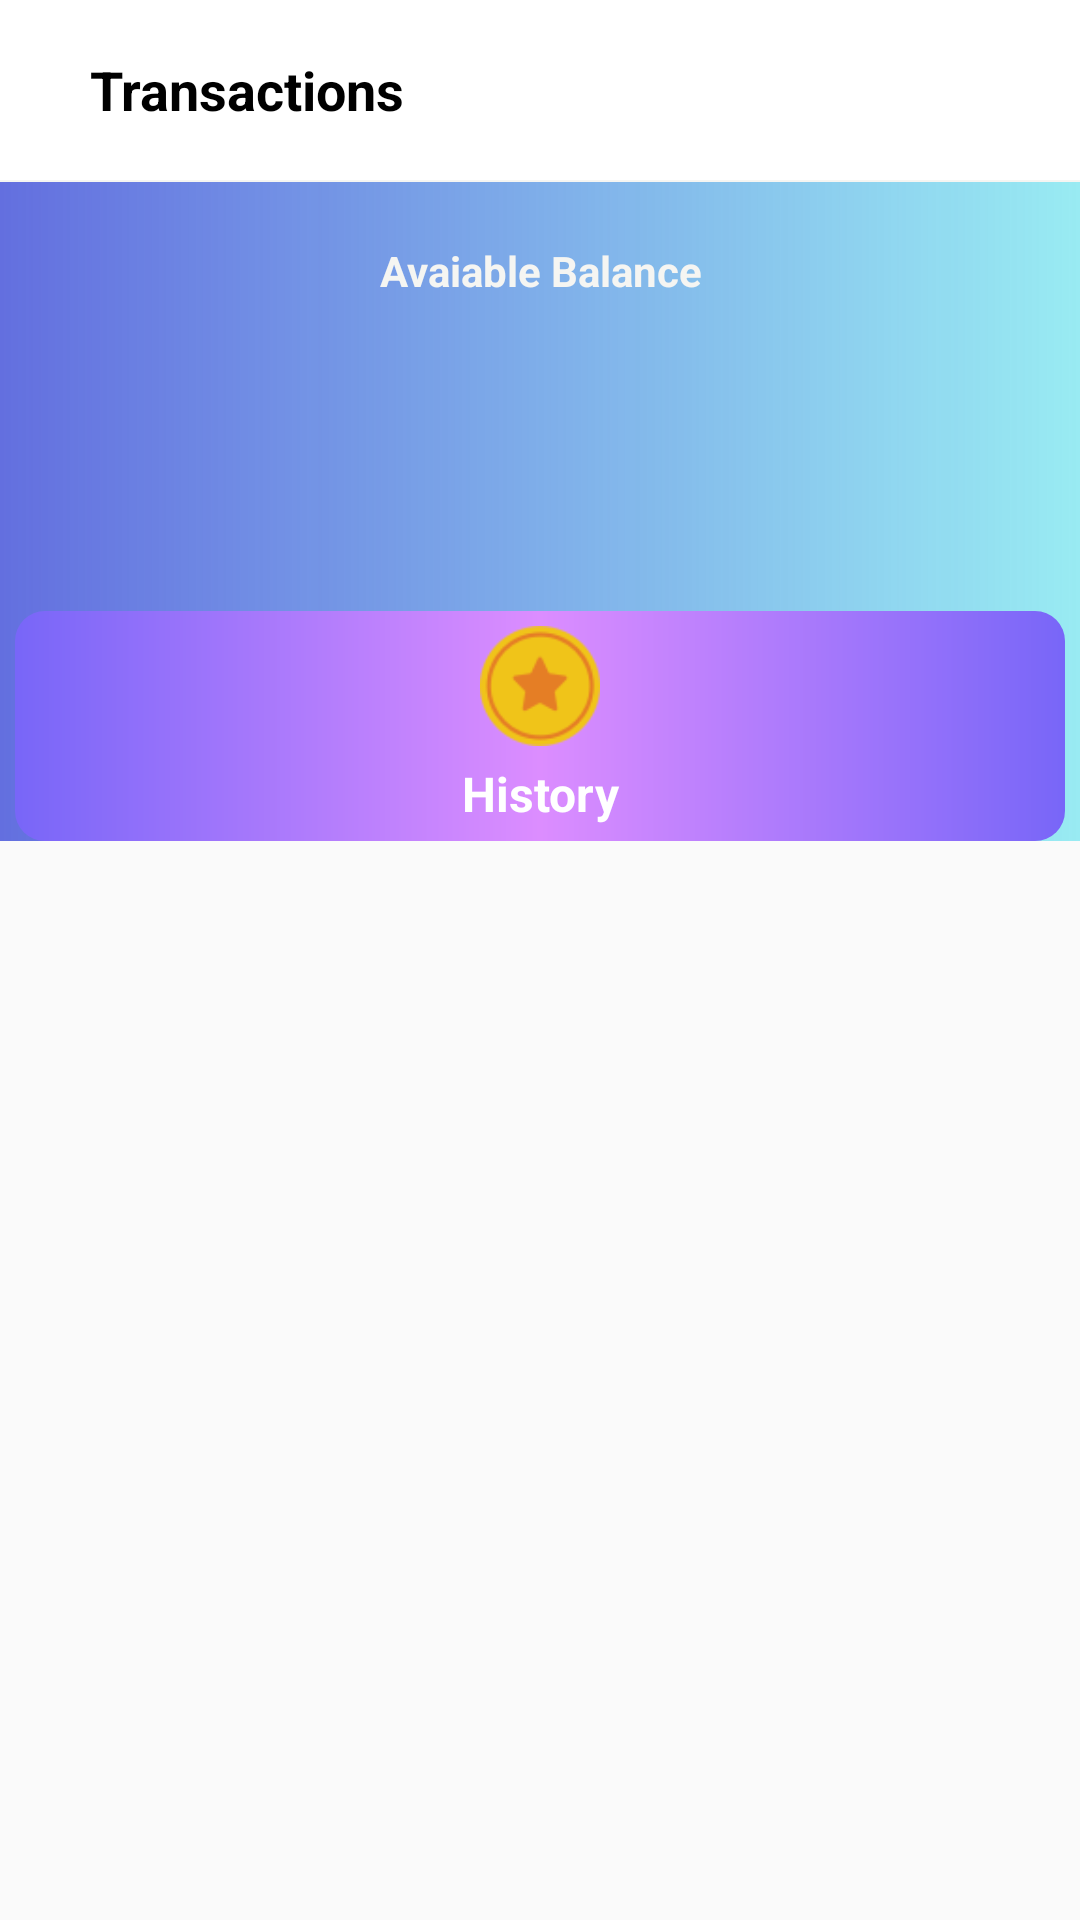

Named icons in this screenshot (1080*1920) and their centers, [x,y]:
coin: [540,686]
